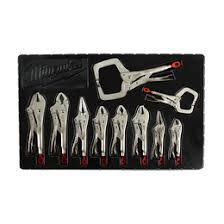pliers: (91, 55, 180, 100), (47, 91, 70, 166), (24, 91, 46, 167), (142, 86, 199, 114), (69, 95, 90, 166), (129, 103, 150, 169), (108, 103, 128, 167), (90, 103, 109, 167), (149, 108, 165, 167), (165, 117, 182, 167)
